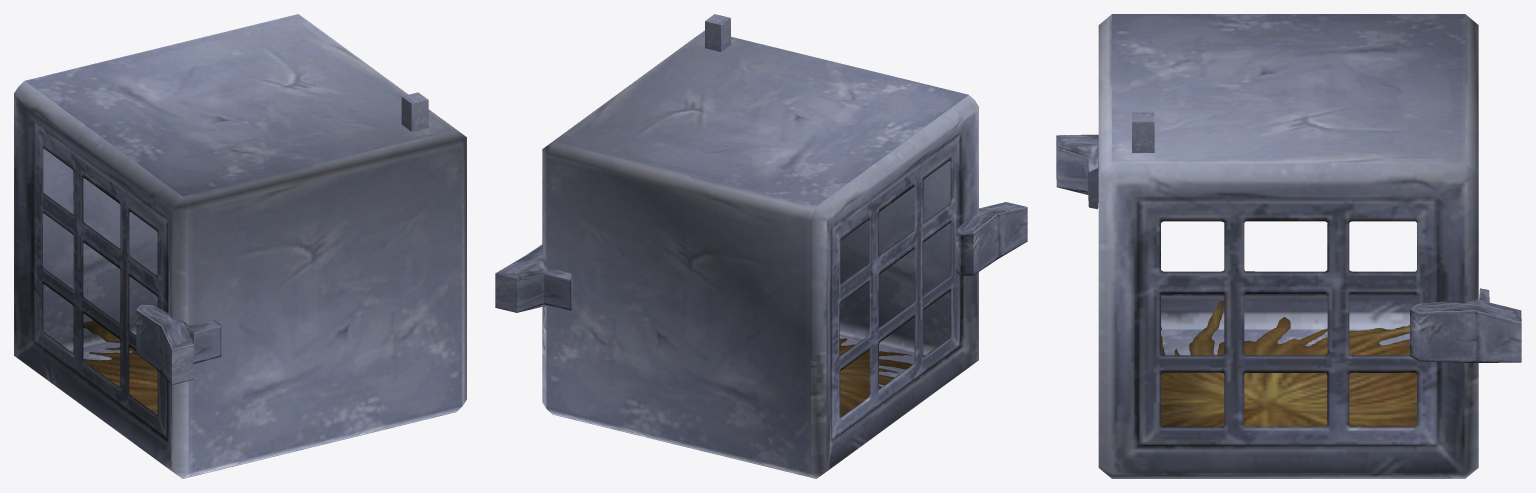
Rendered from dalaran_petcage_01.obj.
3 views of the same model, side by side, from view 1: azimuth 30°, elevation 25°; view 2: azimuth 150°, elevation 25°; view 3: azimuth 270°, elevation 25° (orthographic). The views are drawn at different scales.
Parts seen in each view (by area): view 1: DALARAN_PETCAGE_010; view 2: DALARAN_PETCAGE_010; view 3: DALARAN_PETCAGE_010.
Boxes of the visible parts, x1,y1,x2,y2 form: DALARAN_PETCAGE_010: (14, 14, 466, 478); DALARAN_PETCAGE_010: (495, 14, 1027, 478); DALARAN_PETCAGE_010: (1056, 14, 1521, 478).
Size of the model in its own units: 1.2 by 1.04 by 1.26.
1 material, 1 textured.
